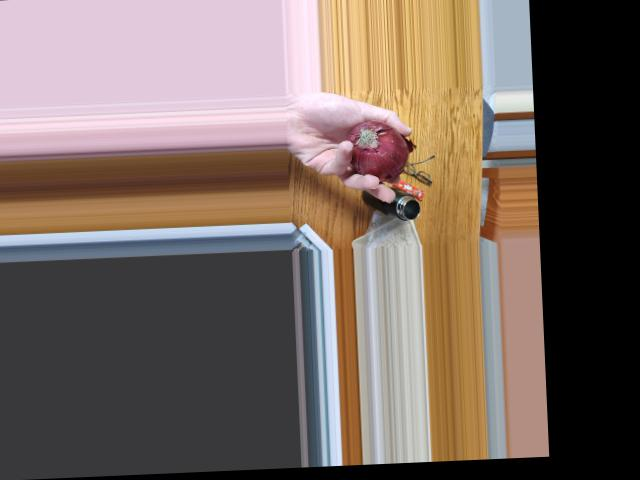onion: (345, 121, 408, 177)
